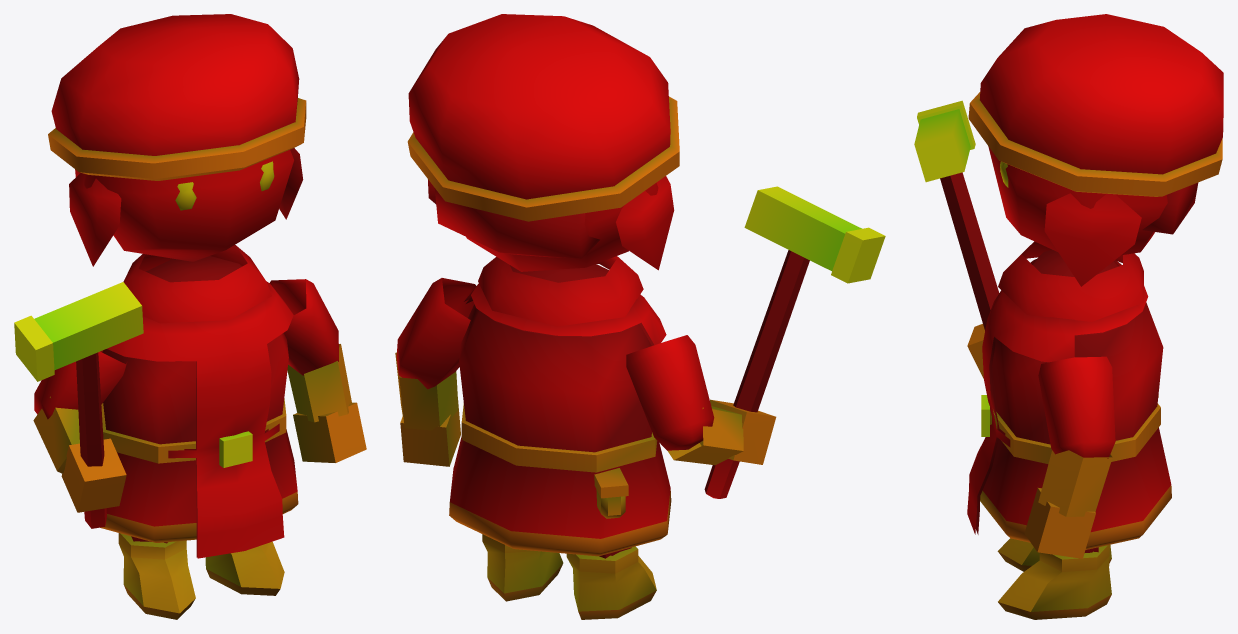
The model's file is Villager_build_LOD1.glb.
The picture shows the model from 3 angles, left to right: view 1: azimuth 30°, elevation 25°; view 2: azimuth 150°, elevation 25°; view 3: azimuth 270°, elevation 25°; orthographic projection. The views are drawn at different scales.
Parts seen in each view (by area): view 1: Villager_build_LOD1; view 2: Villager_build_LOD1; view 3: Villager_build_LOD1.
Part boxes in pixels (x1,y1,x2,y2): Villager_build_LOD1: (14,14,366,619); Villager_build_LOD1: (395,14,885,619); Villager_build_LOD1: (914,14,1223,619).
Size of the model in its own units: 0.6402 by 0.8425 by 0.4277.
